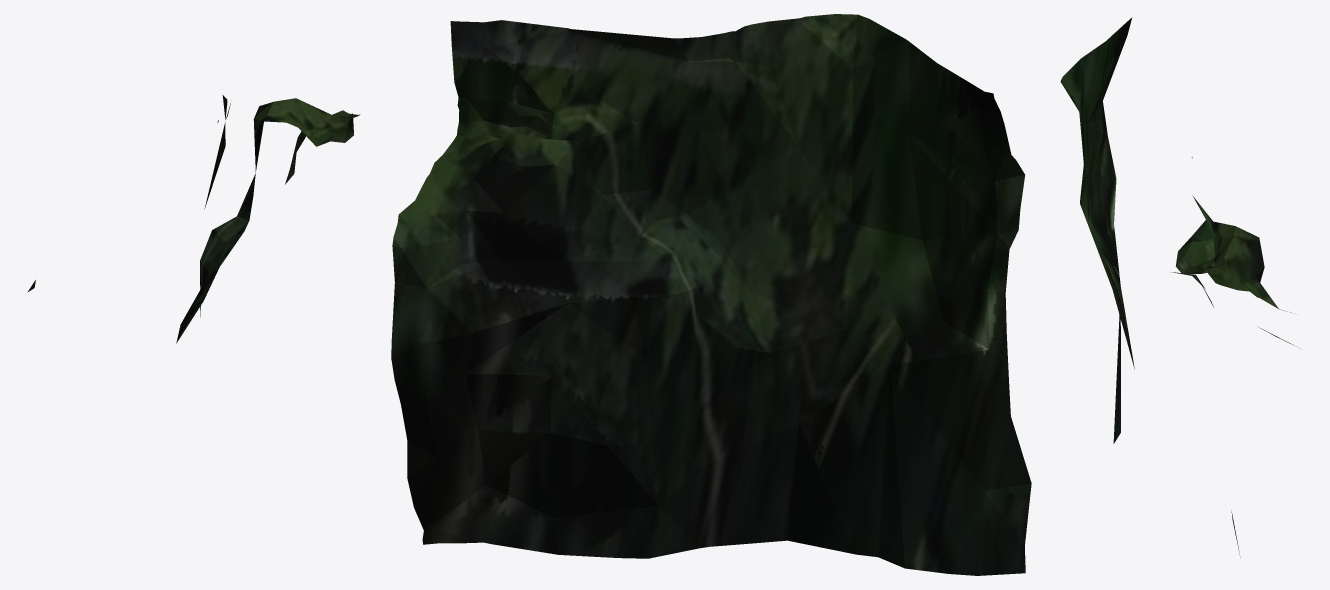
The picture shows the model from 3 angles, left to right: view 1: azimuth 30°, elevation 25°; view 2: azimuth 150°, elevation 25°; view 3: azimuth 270°, elevation 25°; orthographic projection. The views are drawn at different scales.
Size of the model in its own units: 0.8374 by 0.8374 by 0.5053.
3 materials, 3 textured.
